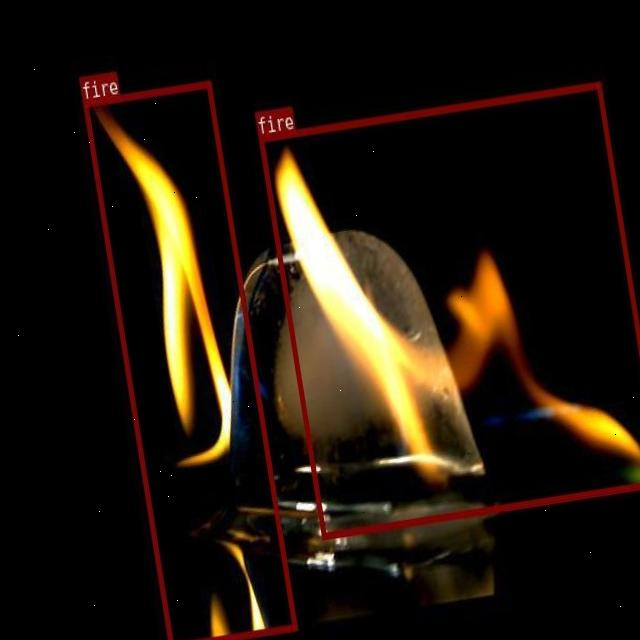fire: (258, 81, 640, 538), (83, 80, 297, 640)
